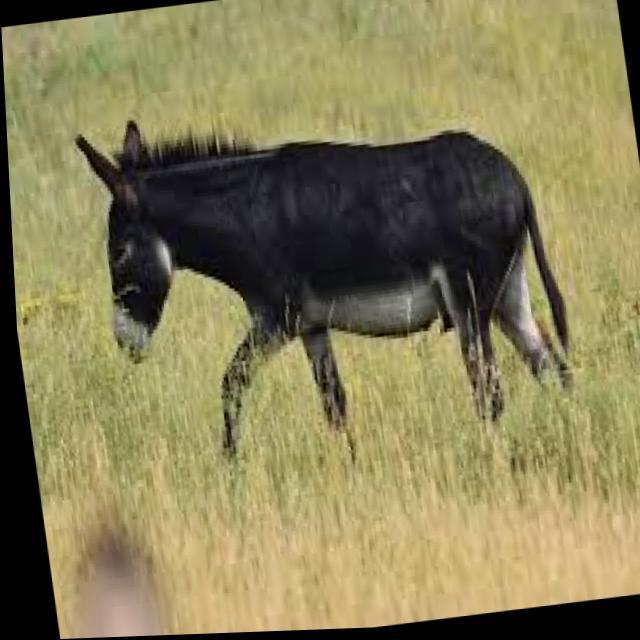Donkey: (6, 37, 612, 570)
